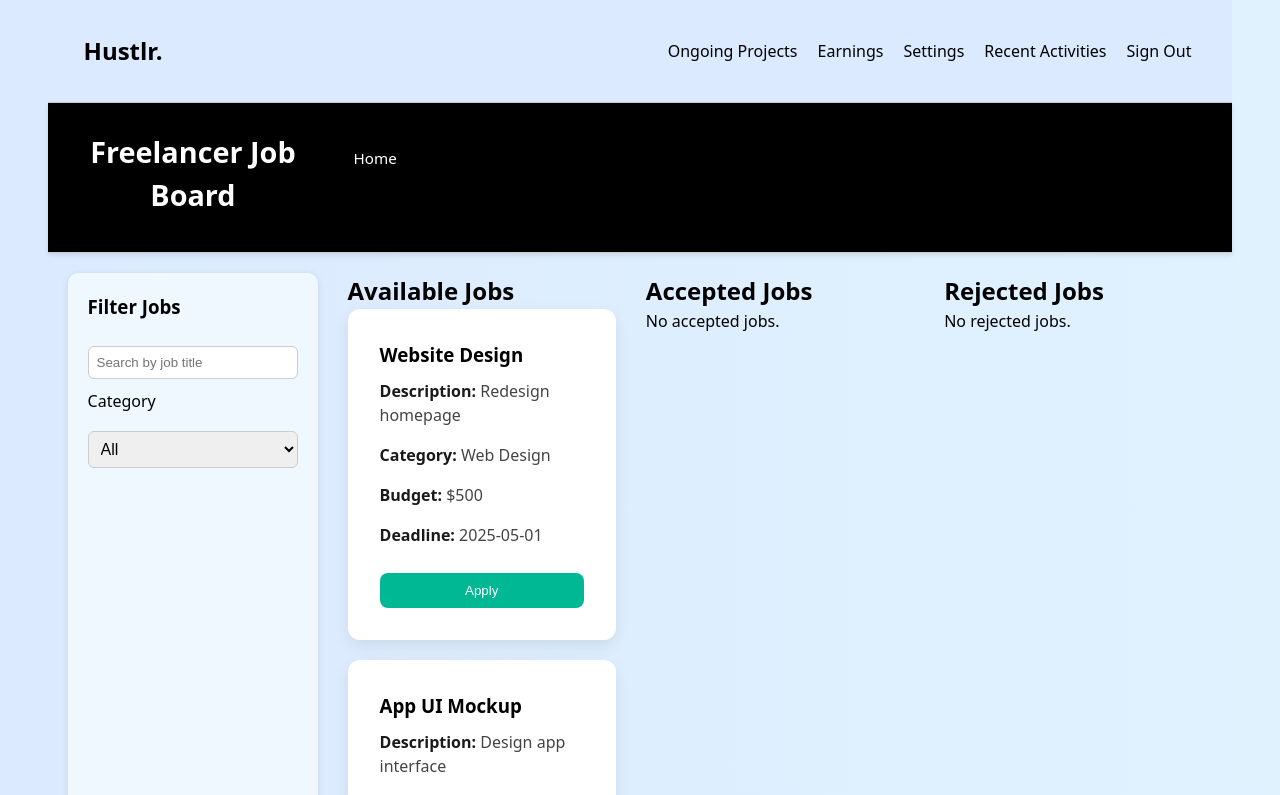
Test: FreelancerJobs Component › shows validation errors for empty form fields
The width and height of the screenshot is (1280, 795).
Click the button "Apply".
click(482, 590)  # box x1=380 y1=573 x2=584 y2=608
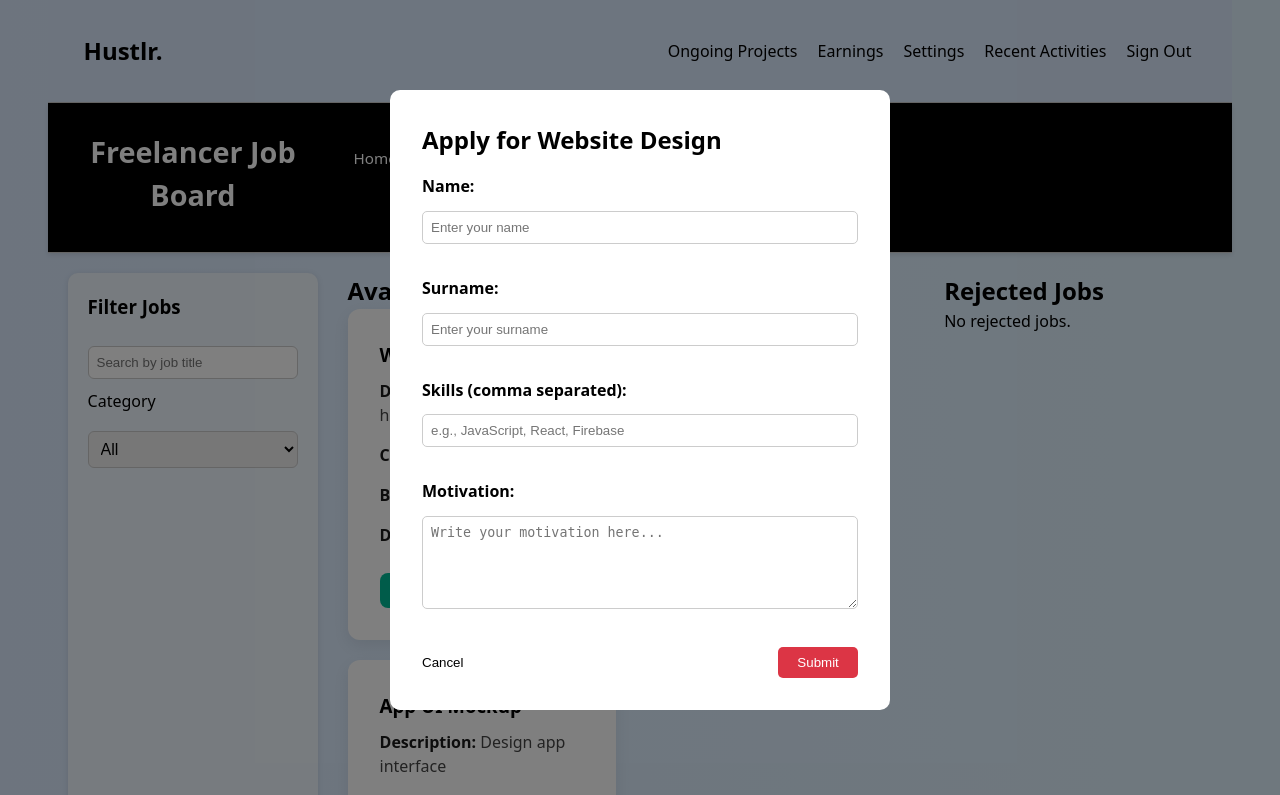
Click the button "Submit".
click(818, 663)  # box x1=778 y1=647 x2=858 y2=678
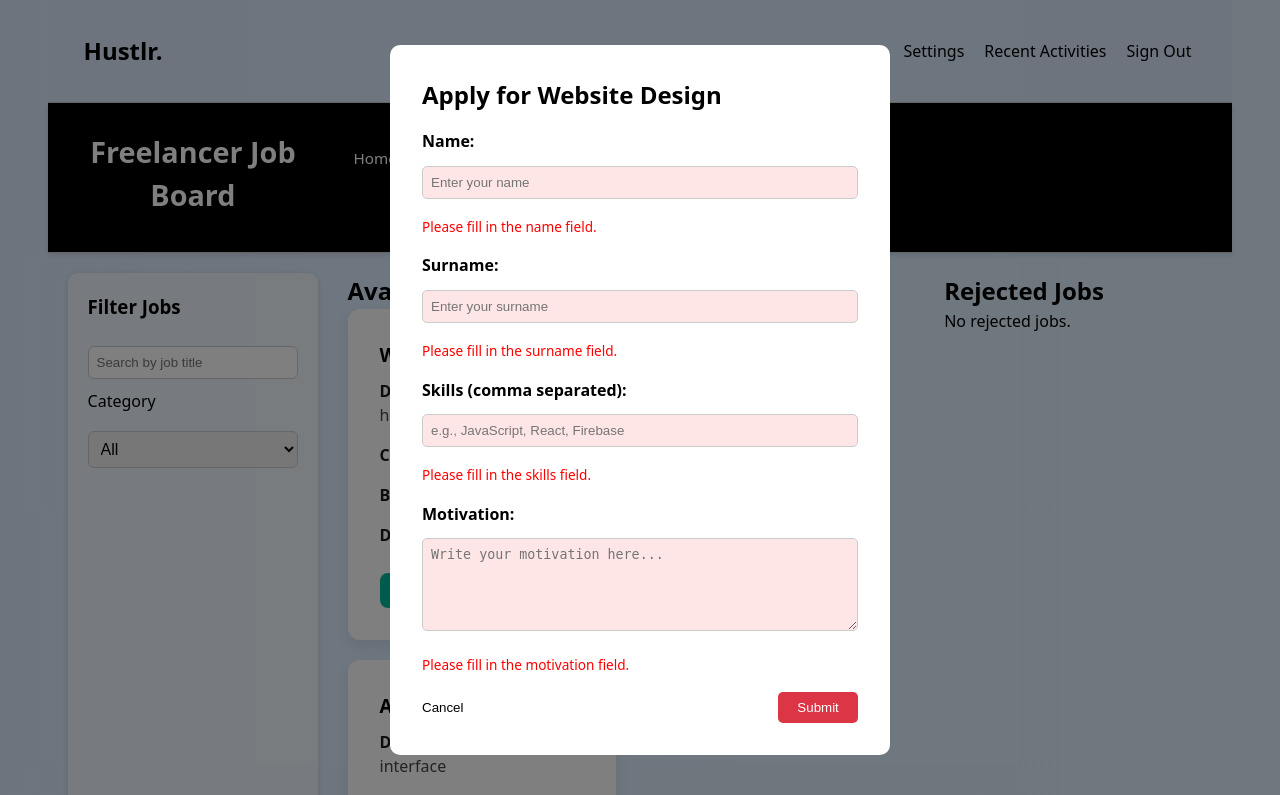
Expected: the text "Please fill in the name field." is shown, x1=422 y1=217 x2=597 y2=236
Expected: the text "Please fill in the surname field." is shown, x1=422 y1=341 x2=617 y2=360
Expected: the text "Please fill in the skills field." is shown, x1=422 y1=465 x2=591 y2=484
